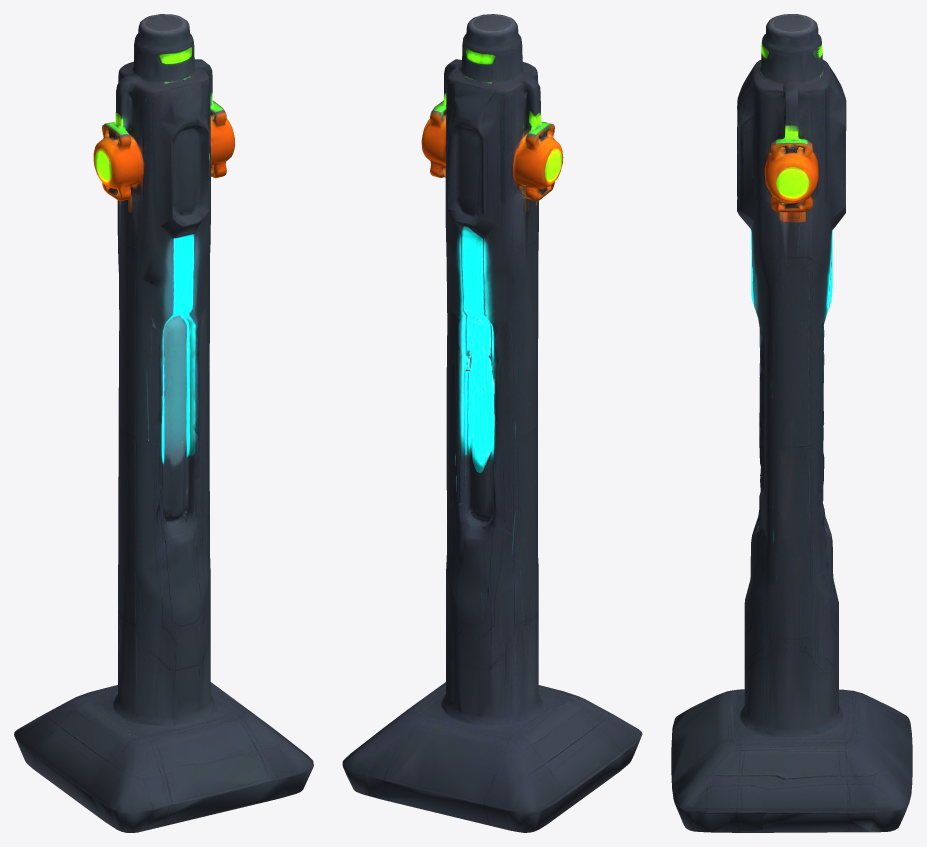
Rendered from boundary_pylon.glb.
3 views of the same model, side by side, from view 1: azimuth 30°, elevation 25°; view 2: azimuth 150°, elevation 25°; view 3: azimuth 270°, elevation 25° (orthographic).
Size of the model in its own units: 0.5443 by 1.9 by 0.5444.
Materials: 1 (1 with a texture image).
